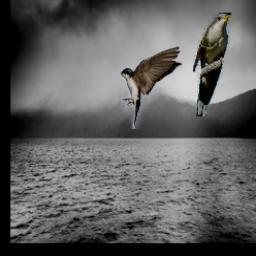Cuckoo: (193, 14, 232, 118)
Swallow: (121, 47, 183, 130)
